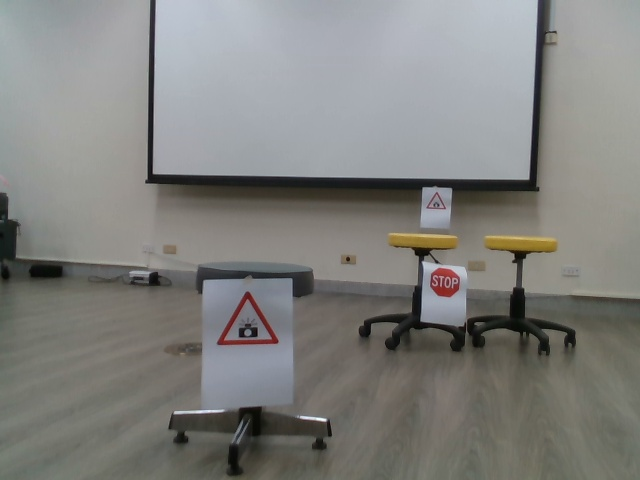camera: (216, 292, 282, 351)
stop: (425, 265, 462, 299)
